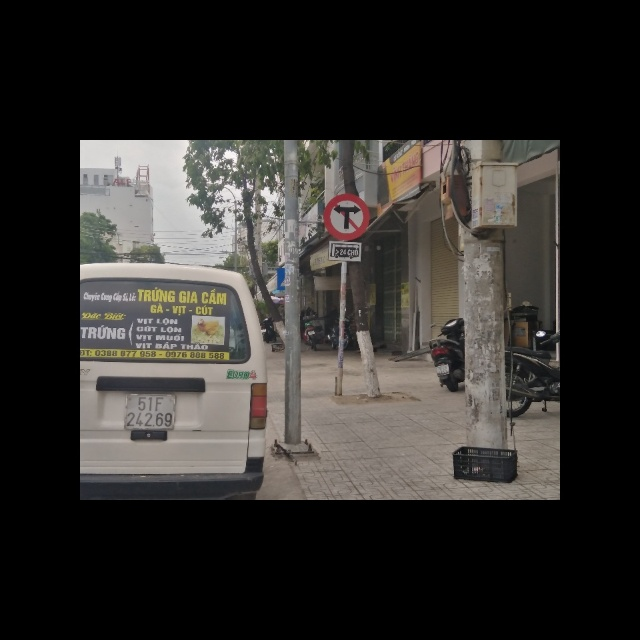Cấm rẽ trái và rẽ phải: (324, 193, 370, 239)
